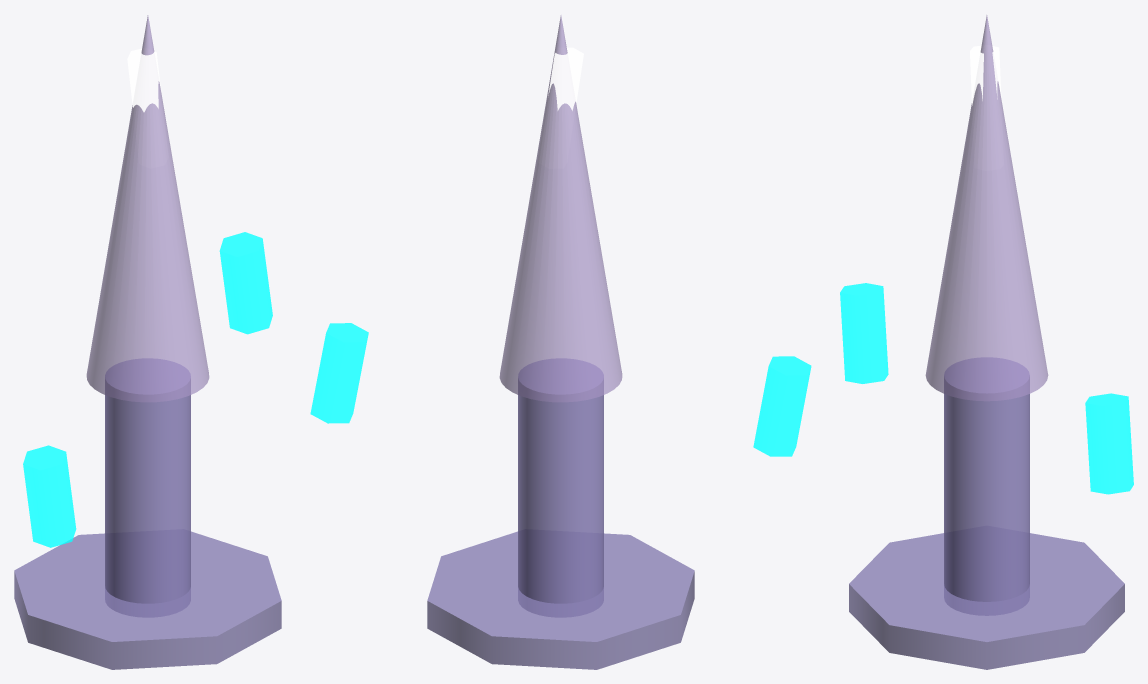
File: wizard_tower.gltf
The picture shows the model from 3 angles, left to right: view 1: azimuth 30°, elevation 25°; view 2: azimuth 150°, elevation 25°; view 3: azimuth 270°, elevation 25°; orthographic projection.
Size of the model in its own units: 279 by 430 by 192.
